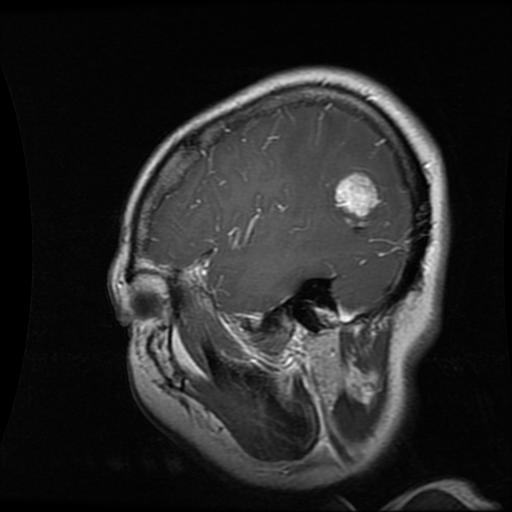Gliomia_tumour: (331, 172, 379, 218)
